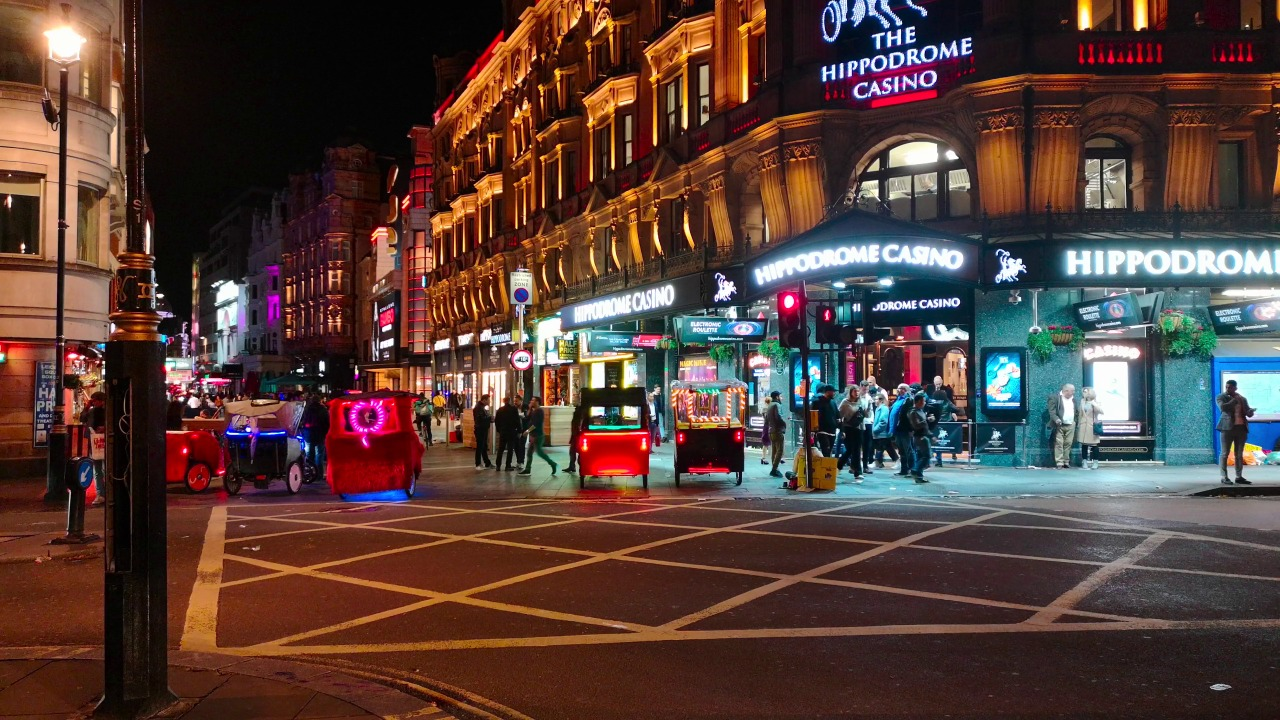car: (328, 394, 428, 494), (229, 400, 310, 494), (669, 382, 744, 481), (582, 389, 650, 483), (166, 438, 225, 498)
person: (1210, 377, 1262, 488), (82, 390, 115, 505), (520, 393, 558, 476), (908, 392, 938, 485), (1045, 383, 1075, 470), (817, 386, 845, 479), (888, 382, 914, 479), (783, 433, 830, 486), (837, 386, 861, 484), (1078, 384, 1103, 471), (471, 393, 494, 472), (493, 398, 517, 472), (874, 394, 897, 470), (936, 389, 955, 475), (562, 392, 580, 475), (769, 390, 785, 479), (859, 381, 874, 473), (646, 390, 664, 457), (420, 400, 441, 448), (760, 398, 769, 464), (654, 385, 666, 416), (928, 373, 949, 389), (511, 390, 525, 412), (434, 393, 444, 423), (869, 374, 884, 393), (450, 387, 459, 417), (460, 391, 466, 414)
